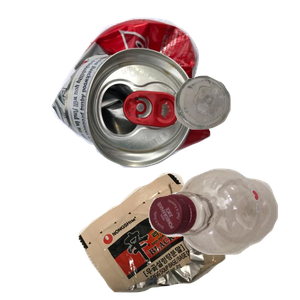glass: (172, 73, 300, 195)
metal: (48, 15, 251, 175)
plastic: (146, 166, 300, 300)
trash: (76, 170, 300, 300)
